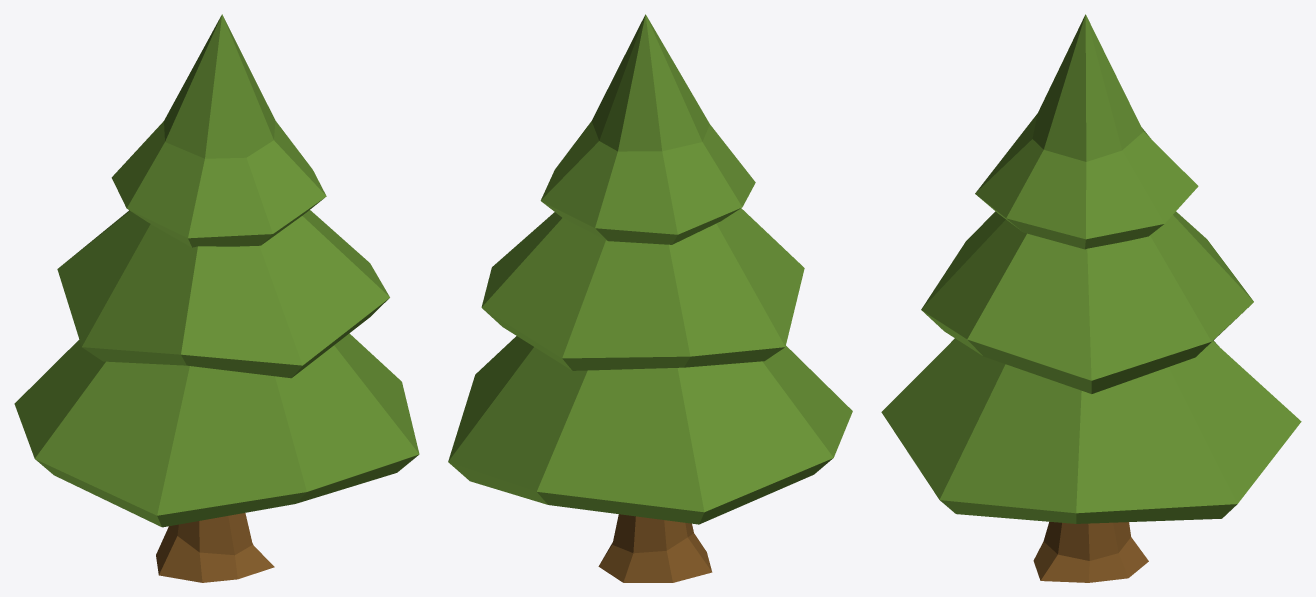
The model's file is tree3.obj.
3 views of the same model, side by side, from view 1: azimuth 30°, elevation 25°; view 2: azimuth 150°, elevation 25°; view 3: azimuth 270°, elevation 25° (orthographic).
Visible parts, largest first — view 1: Tree_Spruce_tiny_02_Cylinder.014; view 2: Tree_Spruce_tiny_02_Cylinder.014; view 3: Tree_Spruce_tiny_02_Cylinder.014.
Part boxes in pixels (box(x1,y1,x2,y2)): Tree_Spruce_tiny_02_Cylinder.014: box(14, 14, 419, 582); Tree_Spruce_tiny_02_Cylinder.014: box(448, 14, 852, 582); Tree_Spruce_tiny_02_Cylinder.014: box(881, 14, 1301, 582).
Size of the model in its own units: 7.67 by 10.98 by 7.58.
